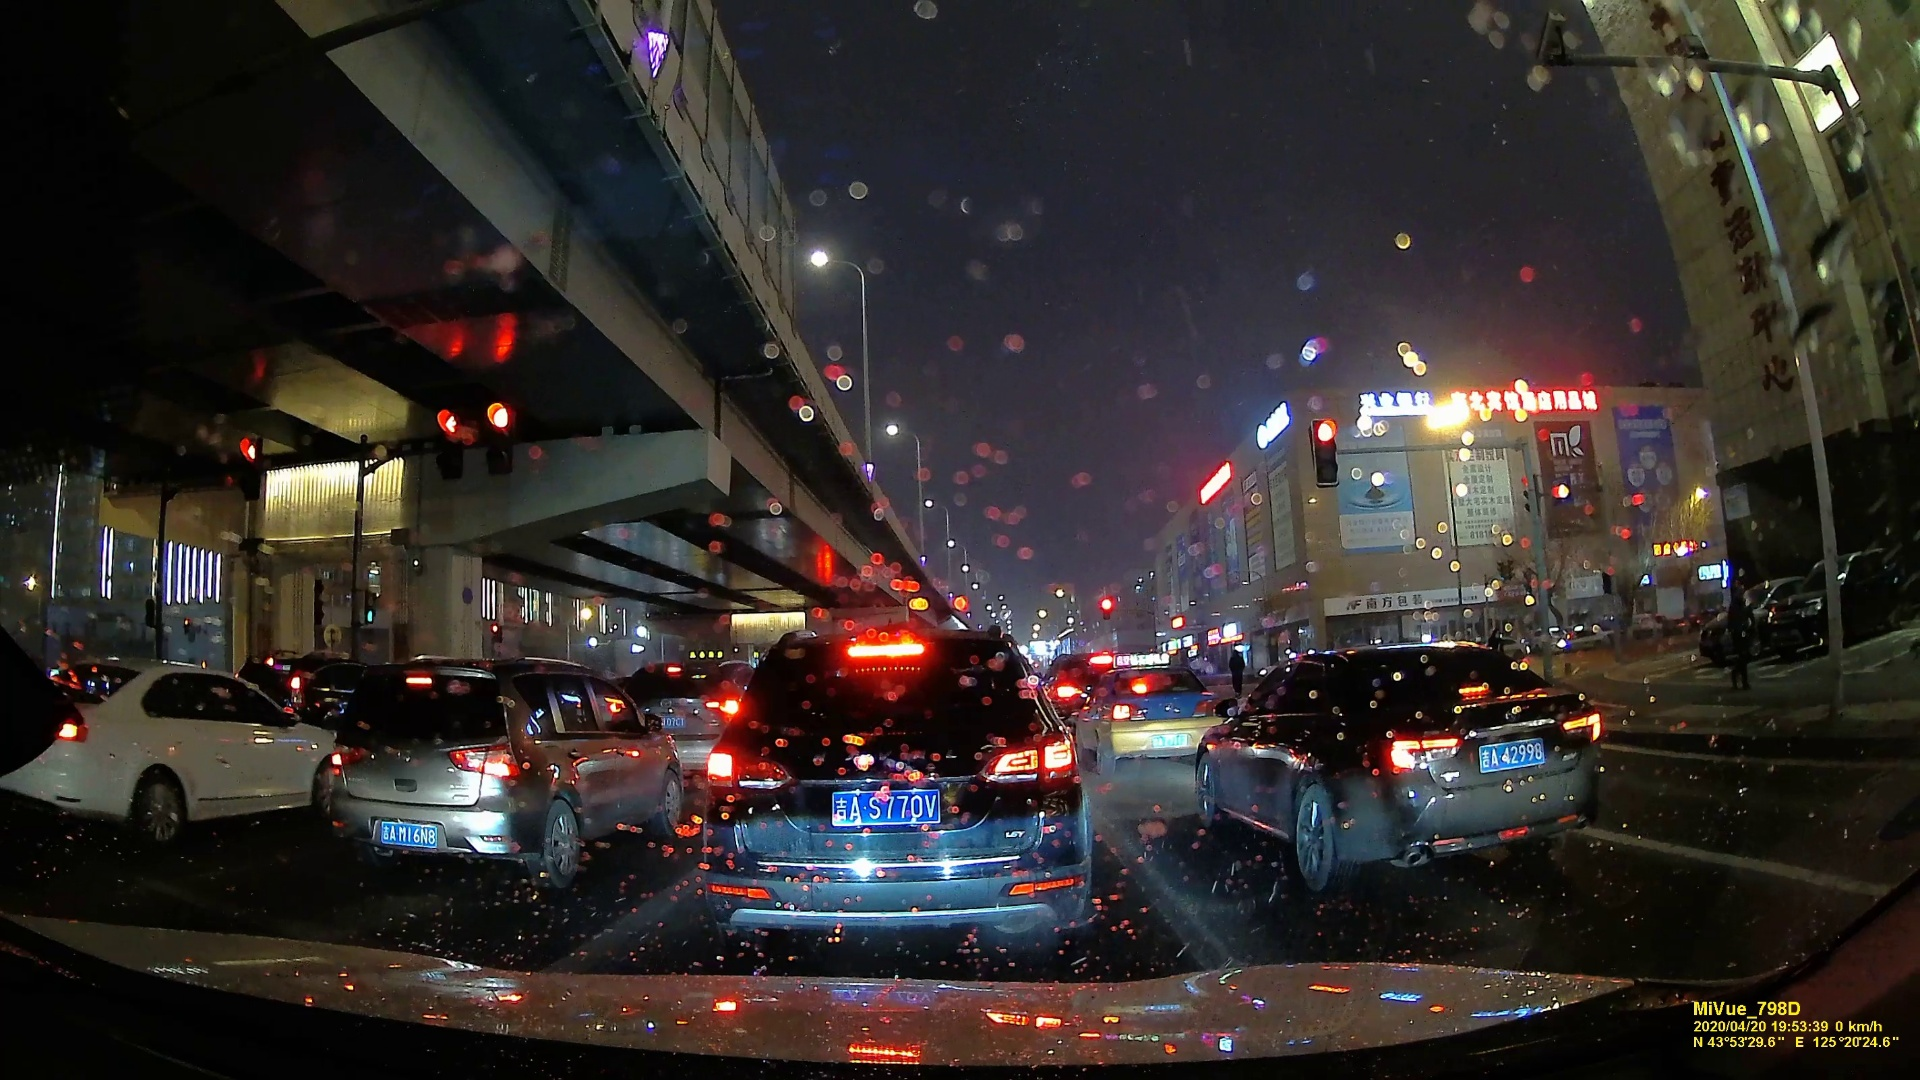person: (1721, 592, 1755, 688), (1226, 646, 1247, 693)
traffic_sign: (479, 404, 516, 471), (432, 402, 461, 474), (1316, 422, 1344, 481), (238, 434, 262, 496), (1552, 479, 1573, 516), (1100, 596, 1113, 622)
vehicle: (670, 628, 1092, 946), (1199, 632, 1615, 902), (310, 645, 685, 895), (8, 640, 310, 850), (1079, 665, 1216, 769)
